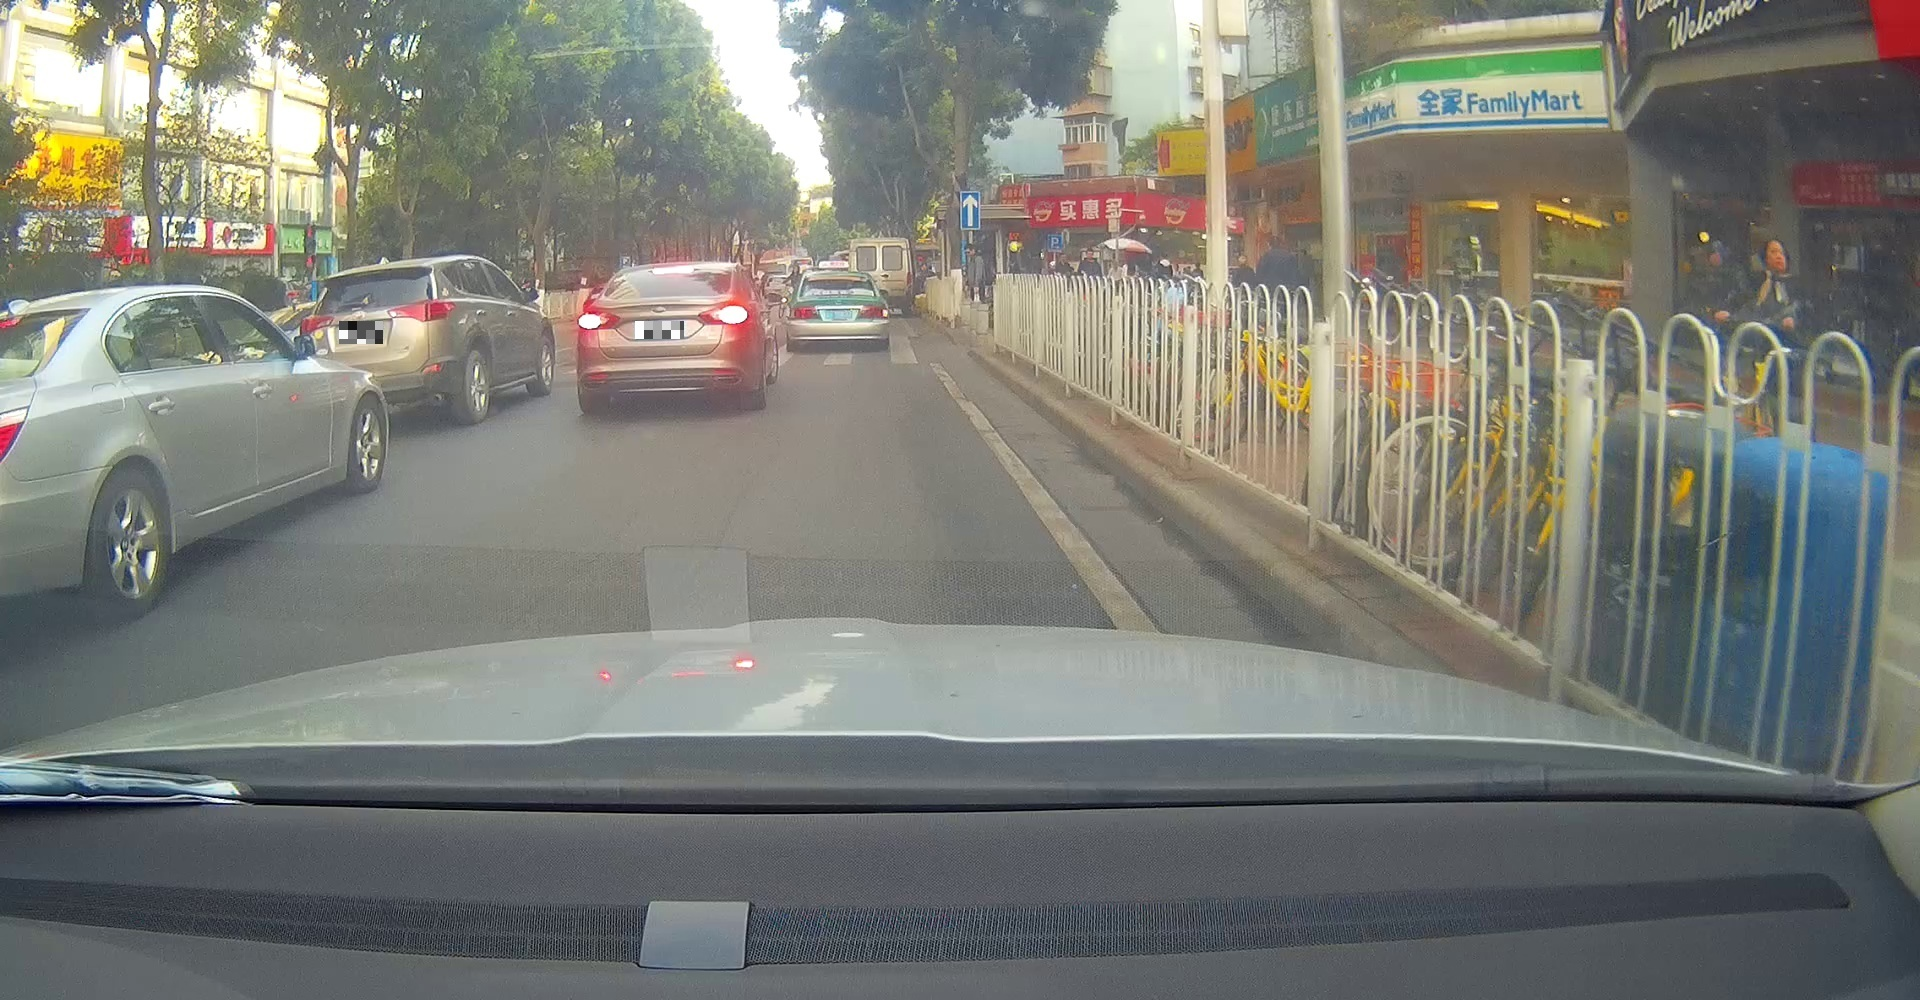L_light: (697, 303, 750, 324), (577, 310, 621, 330), (300, 316, 334, 335), (790, 307, 817, 319)
R_light: (386, 299, 456, 324), (861, 306, 889, 319)
T_light: (651, 265, 695, 275), (358, 272, 389, 275), (829, 275, 844, 279)
day-brake: (575, 261, 764, 412)
day-no: (300, 258, 463, 425), (786, 272, 890, 353)
plate_1: (339, 321, 383, 344)
plate_2: (635, 321, 684, 339)
